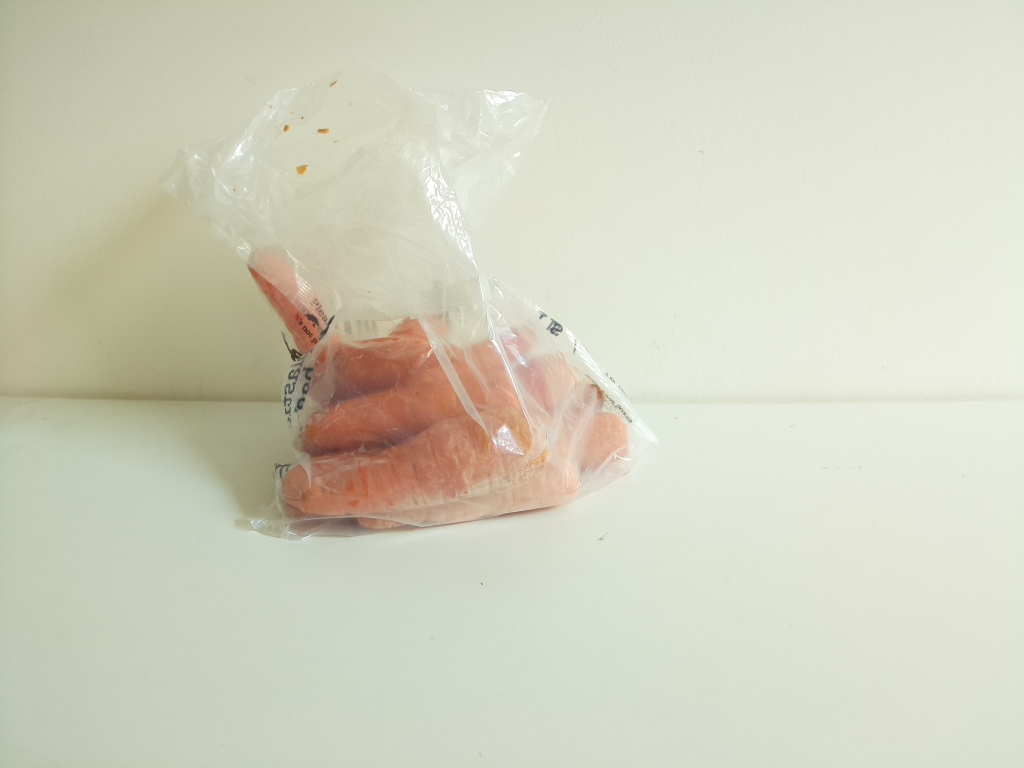carrot: (249, 245, 626, 540)
